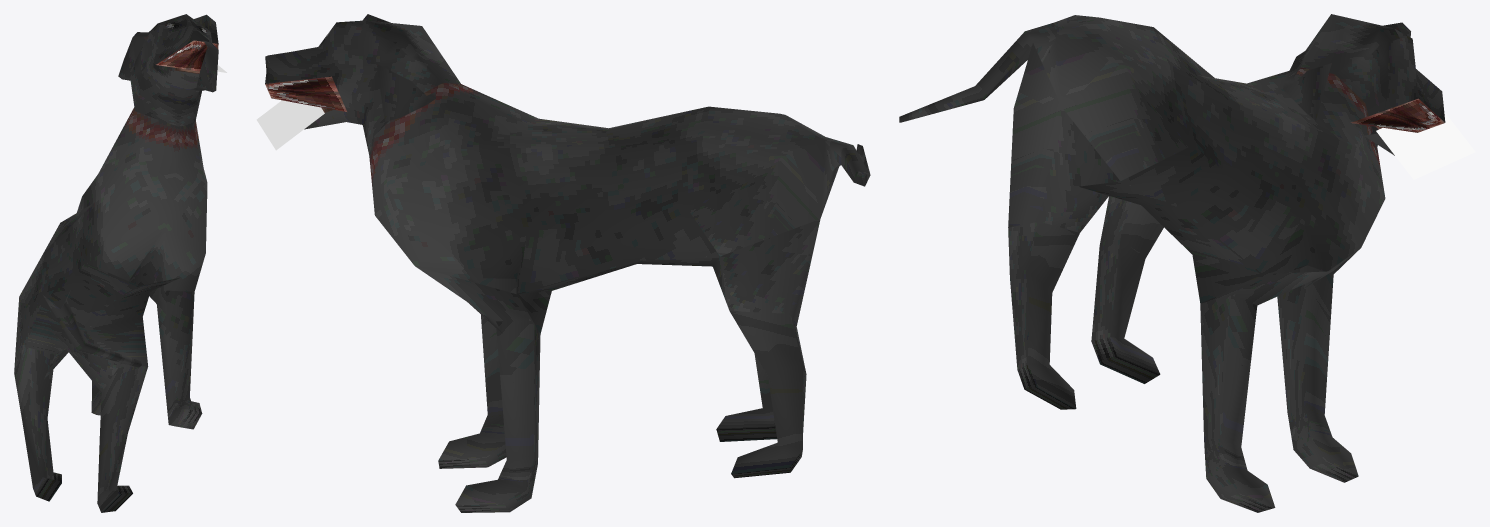
File: ps2_save-icons_fisheyes3.glb
The picture shows the model from 3 angles, left to right: view 1: azimuth 30°, elevation 25°; view 2: azimuth 150°, elevation 25°; view 3: azimuth 270°, elevation 25°; orthographic projection. The views are drawn at different scales.
Parts seen in each view (by area): view 1: mc1.ico; view 2: mc1.ico; view 3: mc1.ico.
Part boxes in pixels (x1=…): mc1.ico: x1=14, y1=14, x2=226, y2=512; mc1.ico: x1=256, y1=14, x2=870, y2=512; mc1.ico: x1=899, y1=14, x2=1475, y2=512.
Bounding box in the file's own units: 3.02 × 3.28 × 3.43.
1 material, 1 textured.
